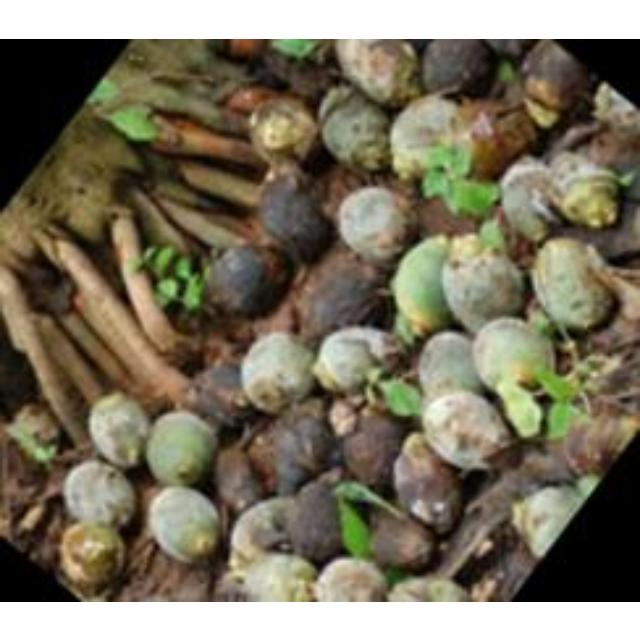damaged: (530, 235, 616, 333), (440, 237, 526, 333), (422, 391, 511, 471), (258, 170, 332, 264), (391, 436, 463, 532), (300, 258, 386, 338), (390, 236, 456, 336), (389, 93, 465, 179), (238, 331, 316, 414), (337, 184, 415, 266), (334, 39, 424, 110), (316, 86, 390, 172), (119, 38, 229, 94), (455, 522, 533, 600), (514, 480, 590, 560), (269, 408, 337, 494), (546, 152, 622, 228), (148, 485, 222, 563), (465, 102, 537, 178), (53, 171, 129, 243), (284, 476, 346, 562), (146, 412, 218, 486), (102, 71, 208, 121), (340, 410, 406, 490), (135, 243, 207, 315), (247, 93, 317, 167), (518, 39, 590, 110), (562, 408, 634, 478), (64, 460, 136, 530), (228, 497, 296, 571), (59, 520, 127, 594), (556, 205, 640, 263), (86, 391, 150, 467), (498, 161, 556, 243), (188, 359, 254, 428), (422, 160, 500, 218), (418, 330, 482, 400), (420, 38, 494, 98), (368, 507, 434, 571), (0, 201, 56, 269), (332, 477, 411, 525), (240, 552, 318, 600), (580, 343, 640, 405), (4, 403, 62, 465), (212, 443, 264, 512), (314, 556, 390, 602), (1, 330, 42, 412), (318, 164, 374, 224), (194, 326, 256, 380), (251, 283, 307, 341), (414, 194, 480, 242), (20, 509, 68, 571), (514, 440, 578, 486), (147, 558, 210, 602), (496, 378, 542, 438), (1, 438, 44, 502), (478, 466, 540, 510), (452, 97, 511, 139), (389, 574, 468, 602), (585, 124, 633, 168), (282, 58, 332, 100), (550, 119, 602, 159), (105, 105, 161, 142), (491, 74, 533, 120), (258, 47, 304, 89), (446, 229, 498, 265), (226, 84, 284, 116), (379, 378, 423, 418), (318, 82, 358, 124), (534, 368, 580, 404), (37, 276, 74, 318), (546, 401, 580, 442), (480, 38, 536, 62), (328, 396, 360, 436), (272, 39, 324, 61), (216, 572, 254, 602), (88, 76, 122, 108), (226, 39, 266, 60)
